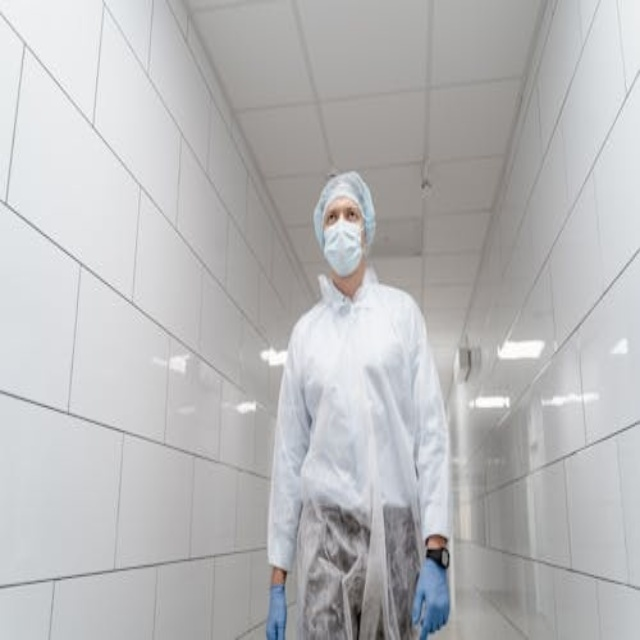Guantes: (412, 557, 450, 640), (266, 583, 287, 640)
Mascara: (322, 218, 365, 277)
Sin_gafas: (323, 205, 364, 236)
